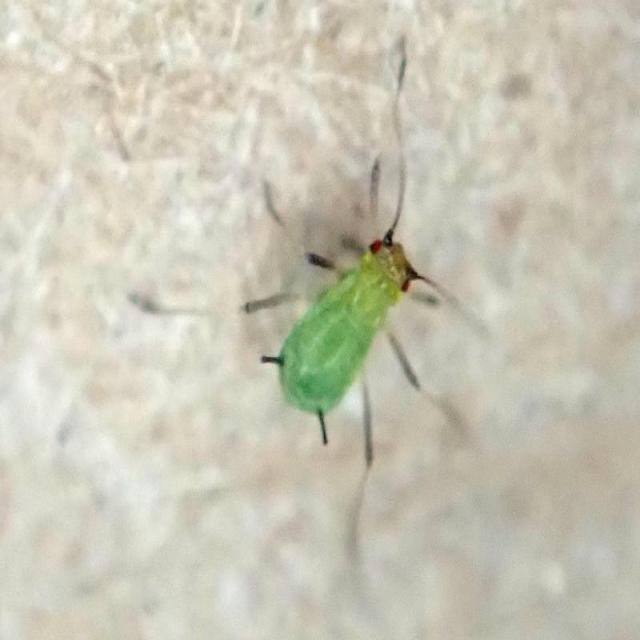aphid: (218, 137, 492, 464)
